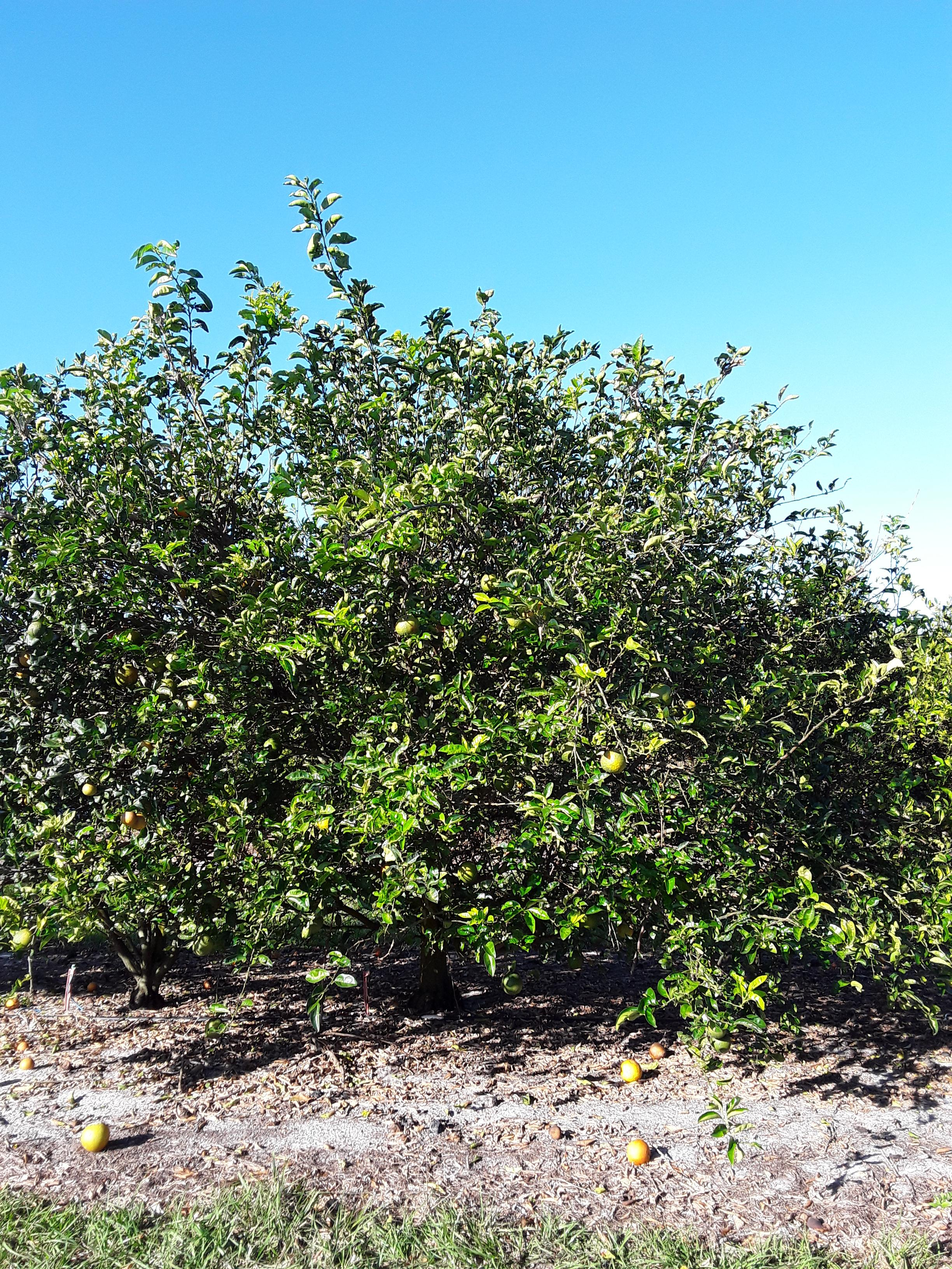fruit_on_ground: (518, 599, 552, 630), (646, 677, 677, 709), (206, 585, 236, 615), (113, 664, 141, 694), (394, 612, 425, 638), (189, 930, 214, 961), (236, 568, 263, 592), (457, 860, 480, 887), (576, 907, 605, 928), (142, 652, 169, 674), (602, 748, 624, 775), (479, 570, 503, 594), (203, 1016, 227, 1040), (122, 628, 146, 651), (170, 581, 195, 603), (155, 677, 181, 698), (20, 684, 46, 705), (616, 919, 637, 945), (264, 736, 286, 760), (564, 949, 588, 971), (704, 1020, 730, 1040), (501, 972, 523, 995), (173, 494, 193, 519), (168, 651, 190, 673), (709, 1037, 735, 1055), (203, 892, 224, 913), (18, 648, 40, 668), (12, 932, 32, 954), (428, 671, 448, 692), (379, 862, 398, 884), (193, 877, 215, 896), (133, 738, 156, 756), (117, 805, 137, 824), (12, 665, 34, 681), (180, 699, 203, 713), (133, 813, 148, 833), (25, 621, 47, 634), (81, 781, 96, 800), (105, 628, 123, 641), (41, 630, 56, 643)
fruit_on_tree: (78, 1119, 113, 1161), (621, 1061, 646, 1091), (643, 1040, 669, 1067), (626, 1138, 650, 1166), (430, 1115, 451, 1139), (546, 1123, 566, 1145), (5, 999, 25, 1013), (20, 1054, 36, 1071), (14, 1040, 32, 1053), (86, 980, 97, 996), (202, 978, 215, 990)
